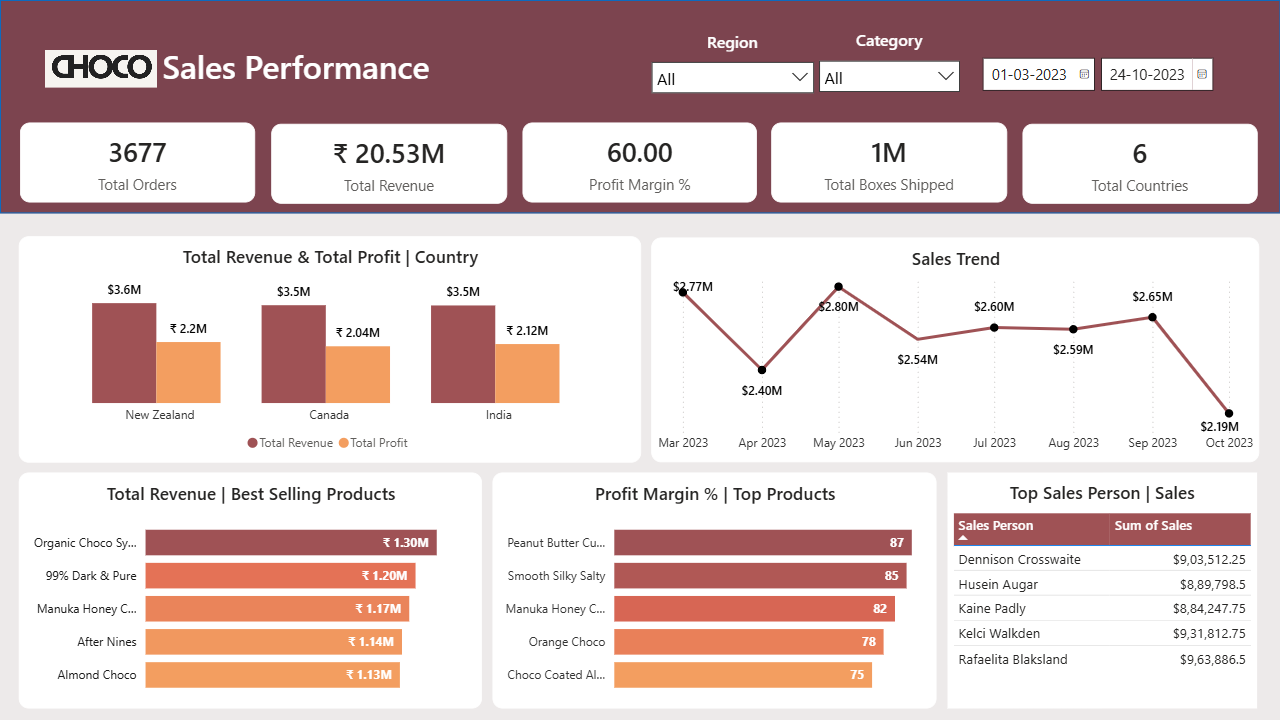

The page's visual inventory and layout, read from the dashboard file:
{"tool":"powerbi","page":{"name":"Dashboard","canvas":[1280,720],"ordinal":0},"visuals":[{"type":"shape","box":[0,0,1280.4,213.4],"z":0},{"type":"card","fields":{"Values":["orders.Total Orders"]},"box":[20.3,122.7,235,80],"z":1000},{"type":"card","fields":{"Values":["orders.Total Boxes Shipped"]},"box":[771.4,122.7,235.8,80],"z":2000},{"type":"card","fields":{"Values":["orders.Total Revenue"]},"box":[271,123.8,235.8,80],"z":3000},{"type":"slicer","title":"Region","fields":{"Values":["region.Region"]},"box":[641.3,29.9,182.5,67.2],"z":4000},{"type":"slicer","title":"Category","fields":{"Values":["categories.Category"]},"box":[808.8,28.8,161.1,68.3],"z":5000},{"type":"textbox","box":[157.3,39.6,446.7,68.4],"z":6000},{"type":"image","box":[44.8,50.1,112,37.3],"z":7000},{"type":"card","fields":{"Values":["orders.Total Countries"]},"box":[1022.2,123.8,235,80],"z":8000},{"type":"card","fields":{"Values":["orders.Profit Margin %"]},"box":[522.8,122.7,234.7,80],"z":9000},{"type":"clusteredColumnChart","title":"Total Revenue  & Total Profit | Country","fields":{"Y":["orders.Total Revenue","orders.Total Profit"],"Category":["orders.Country"]},"box":[18.1,236.9,622.1,226.2],"z":10000},{"type":"lineChart","title":"Sales Trend","fields":{"Y":["orders.Sales"],"Category":["orders.Date.Variation.Date Hierarchy.Year","orders.Date.Variation.Date Hierarchy.Month"]},"box":[650.9,237.9,608.2,225.1],"z":11000},{"type":"clusteredBarChart","title":"Total Revenue | Best Selling Products","fields":{"Category":["categories.Product"],"Y":["orders.Total Revenue"]},"box":[18.1,472.7,463.1,235.8],"z":12000},{"type":"clusteredBarChart","title":"Profit Margin % | Top Products","fields":{"Y":["orders.Profit Margin %"],"Category":["orders.Product"]},"box":[492.9,472.7,443.9,235.8],"z":13000},{"type":"tableEx","title":"Top Sales Person | Sales","fields":{"Values":["orders.Sales Person","orders.Sales"]},"box":[947.5,472.7,309.4,235.8],"z":14000},{"type":"slicer","fields":{"Values":["orders.Date"]},"box":[969.9,48,286,49.1],"z":16000}]}

Visuals, with their boxes in screenshot pixels (x1, y1, x2, y2), scaled from the page's 1280x720 canvas onto the 1280x720 screenshot:
shape: bbox(0, 0, 1279, 213)
card - orders.Total Orders: bbox(20, 123, 255, 203)
card - orders.Total Boxes Shipped: bbox(771, 123, 1007, 203)
card - orders.Total Revenue: bbox(271, 124, 507, 204)
"Region" slicer: bbox(641, 30, 824, 97)
"Category" slicer: bbox(809, 29, 970, 97)
textbox: bbox(157, 40, 604, 108)
image: bbox(45, 50, 157, 87)
card - orders.Total Countries: bbox(1022, 124, 1257, 204)
card - orders.Profit Margin %: bbox(523, 123, 758, 203)
"Total Revenue  & Total Profit | Country" clusteredColumnChart: bbox(18, 237, 640, 463)
"Sales Trend" lineChart: bbox(651, 238, 1259, 463)
"Total Revenue | Best Selling Products" clusteredBarChart: bbox(18, 473, 481, 708)
"Profit Margin % | Top Products" clusteredBarChart: bbox(493, 473, 937, 708)
"Top Sales Person | Sales" tableEx: bbox(948, 473, 1257, 708)
slicer - orders.Date: bbox(970, 48, 1256, 97)
